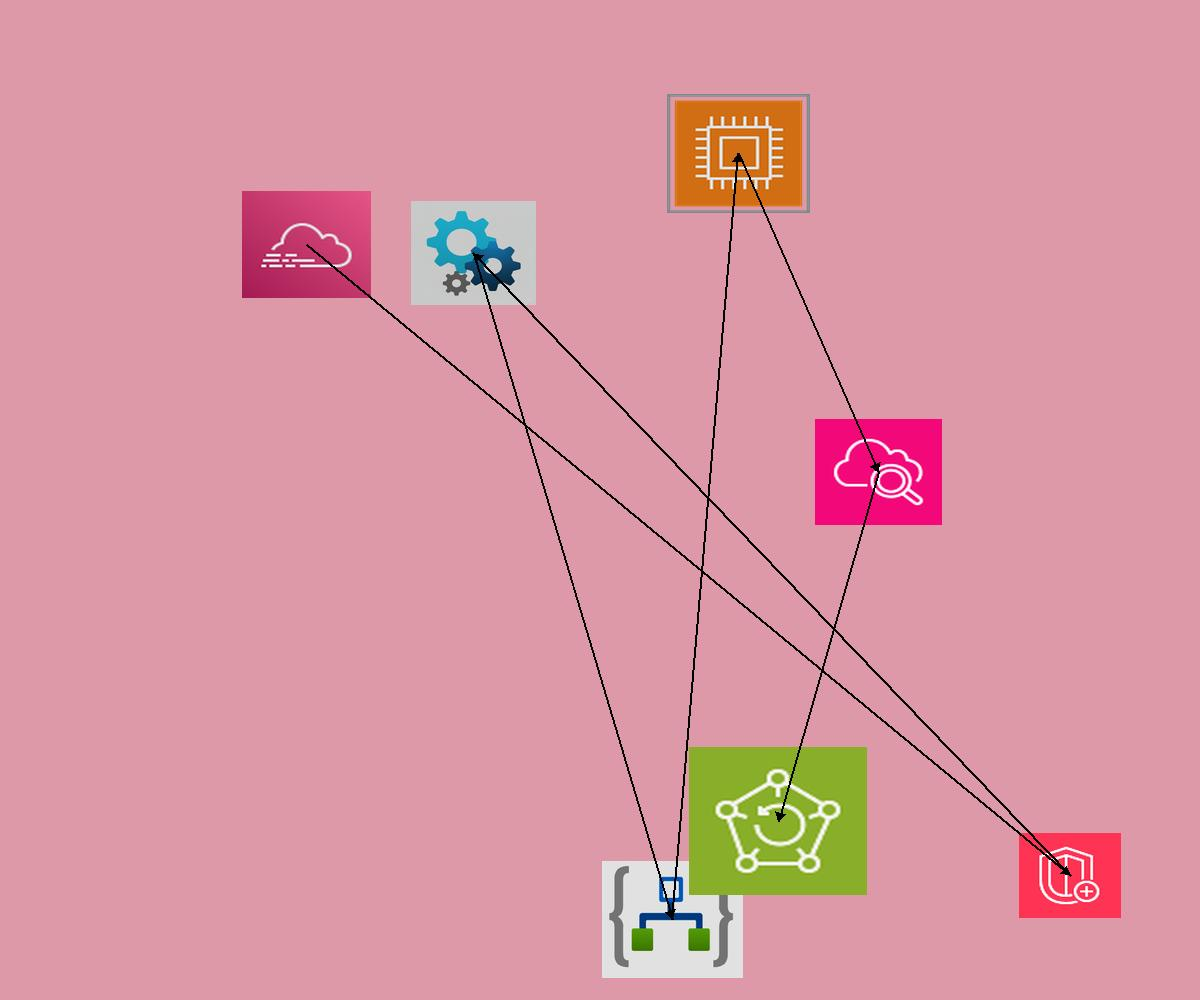AWS-Backup: (689, 747, 867, 895)
AWS-Category_Compute: (667, 94, 810, 213)
AWS-CloudTrail: (242, 191, 371, 298)
AWS-CloudWatch: (815, 419, 942, 525)
AWS-Shield: (1019, 833, 1121, 918)
Azure_api: (411, 201, 536, 305)
Azure_integration-204-Logic-Apps: (602, 861, 743, 978)
